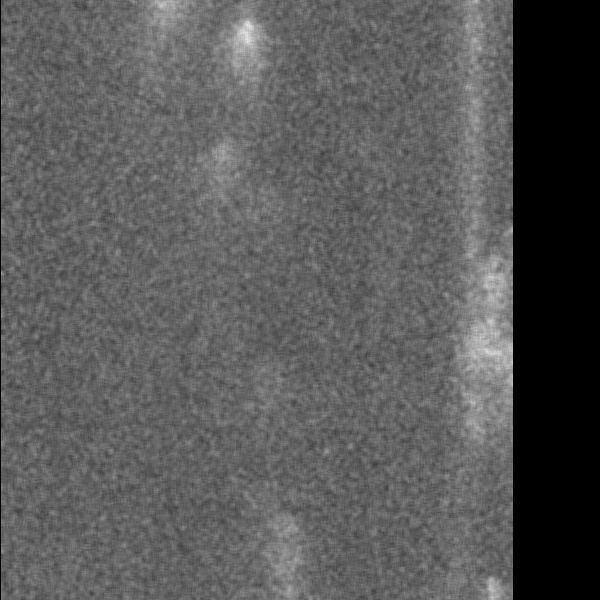spark: (136, 1, 193, 105), (233, 12, 262, 102), (203, 129, 226, 200), (276, 529, 299, 600)
